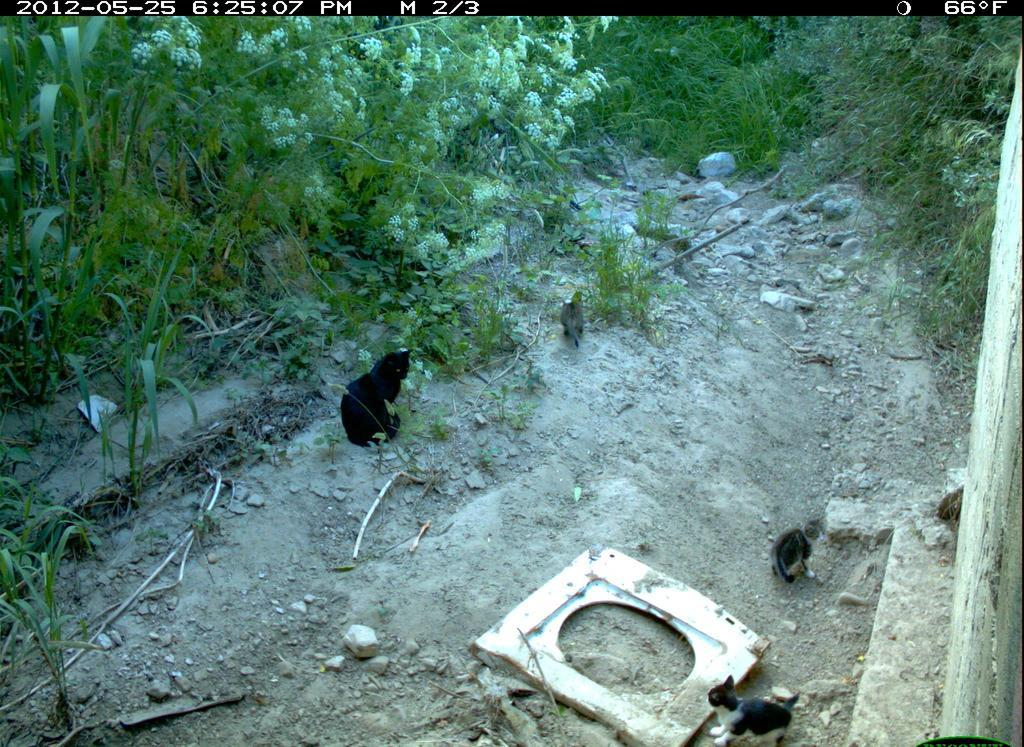cat: (338, 330, 442, 463), (693, 660, 809, 747), (770, 511, 833, 592), (557, 282, 597, 358)
